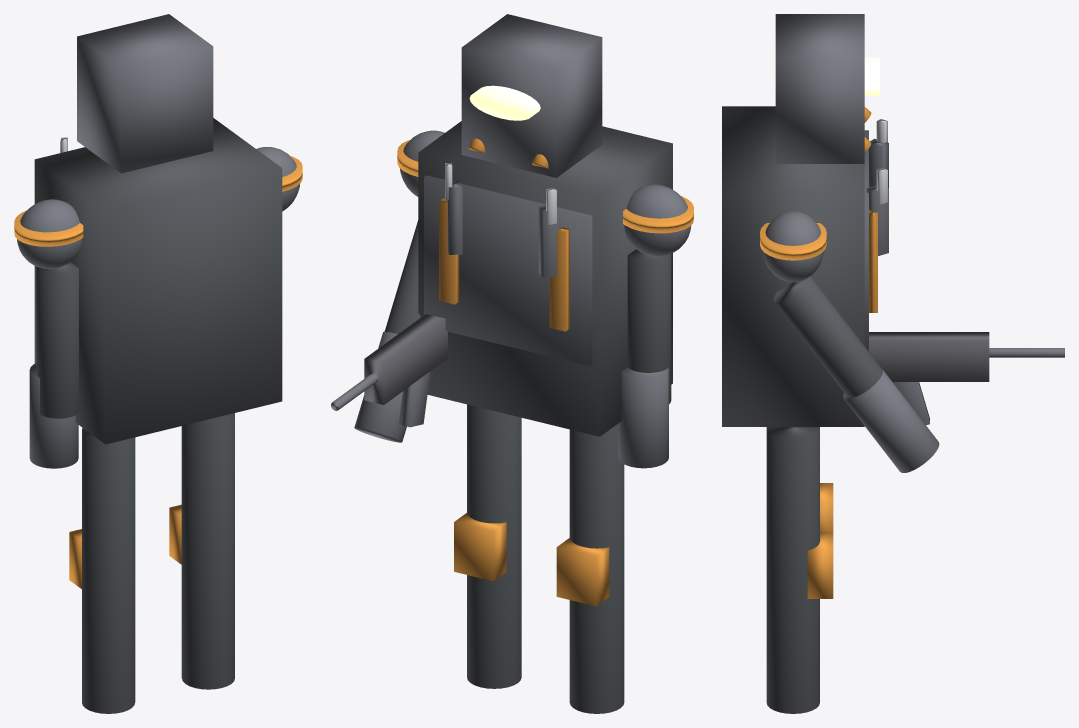
File: Hunter_Apex_Stalker.fbx
3 renders of one model, left to right at view 1: azimuth 30°, elevation 25°; view 2: azimuth 150°, elevation 25°; view 3: azimuth 270°, elevation 25°, orthographic. The views are drawn at different scales.
Visible parts, largest first — view 1: Torso_Suit, Predator_Mask, Leg_L, Leg_R, Arm_L, Vambrace_L, Pauldron_L, Pauldron_Orange_L, Pauldron_R, Knee_L, Knee_R; view 2: Torso_Suit, Chest_CarbonRig, Predator_Mask, Leg_L, Leg_R, Arm_L, Vambrace_L, Hunter_SMG, Knee_L, Knee_R, Pauldron_L, Arm_R (+10 smaller); view 3: Torso_Suit, Leg_R, Predator_Mask, Arm_R, Hunter_SMG, Vambrace_R, Pauldron_R, Knee_R, Pauldron_Orange_R, Chest_CarbonRig, Hazard_Stripe_R, Knife_Sheath_R (+5 smaller).
Boxes of the visible parts, x1,y1,x2,y2 form: Torso_Suit: (34,118,282,444); Predator_Mask: (77,14,213,173); Leg_L: (82,428,135,713); Leg_R: (181,413,234,689); Arm_L: (36,262,78,418); Vambrace_L: (29,363,78,468); Pauldron_L: (17,199,81,269); Pauldron_Orange_L: (14,210,83,246); Pauldron_R: (256,147,300,211); Knee_L: (69,529,81,588); Knee_R: (169,504,181,564); Torso_Suit: (418,121,672,436); Chest_CarbonRig: (424,175,592,366); Predator_Mask: (461,14,602,177); Leg_L: (569,423,624,713); Leg_R: (467,404,521,688); Arm_L: (627,249,671,404); Vambrace_L: (618,367,668,468); Hunter_SMG: (364,314,447,404); Knee_L: (556,538,609,606); Knee_R: (454,513,506,581); Pauldron_L: (624,184,691,256); Arm_R: (384,220,420,333); Torso_Suit: (722,106,864,426); Leg_R: (766,427,819,713); Predator_Mask: (775,14,864,163); Arm_R: (773,276,882,397); Hunter_SMG: (869,332,989,381); Vambrace_R: (843,369,939,472); Pauldron_R: (762,211,823,282); Knee_R: (807,532,833,598); Pauldron_Orange_R: (760,223,826,260); Chest_CarbonRig: (864,130,868,351); Hazard_Stripe_R: (869,210,877,312); Knife_Sheath_R: (866,185,888,255).
Bounding box in the file's own units: 76.65 × 167 × 80.85.
